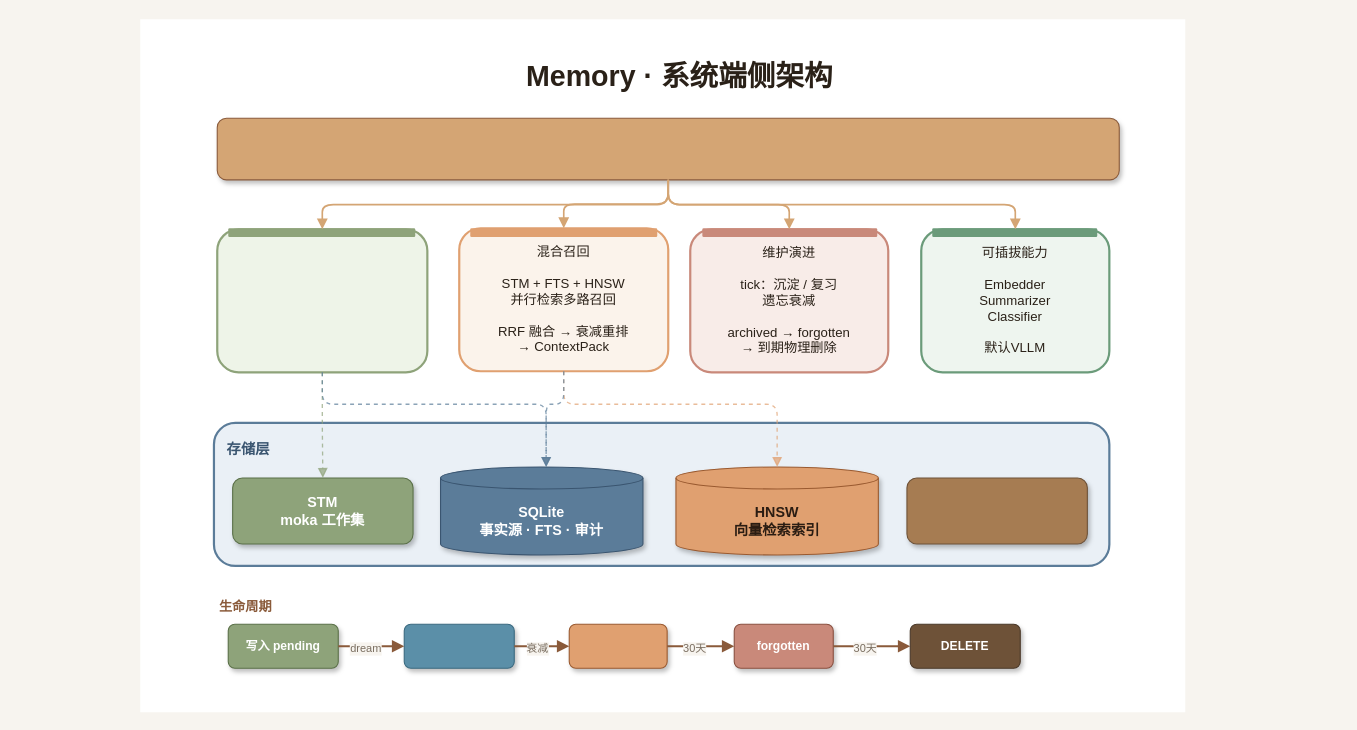
Image size: 1357x730. Some labels were removed from this diagram. Each missing label, with the centre of its shape:
"archived" belongs at [619,647].
"MemoryEngine remember · recall · revise · forget · tick · dream · export/import" belongs at [669,150].
"写入巩固 STM 工作集 + LTM（待巩固） dream 批分类 → 聚类摘要 / 规律" belongs at [322,300].
"巩固 active" belongs at [460,647].
"离线记忆 导入 / 导出" belongs at [997,512].
